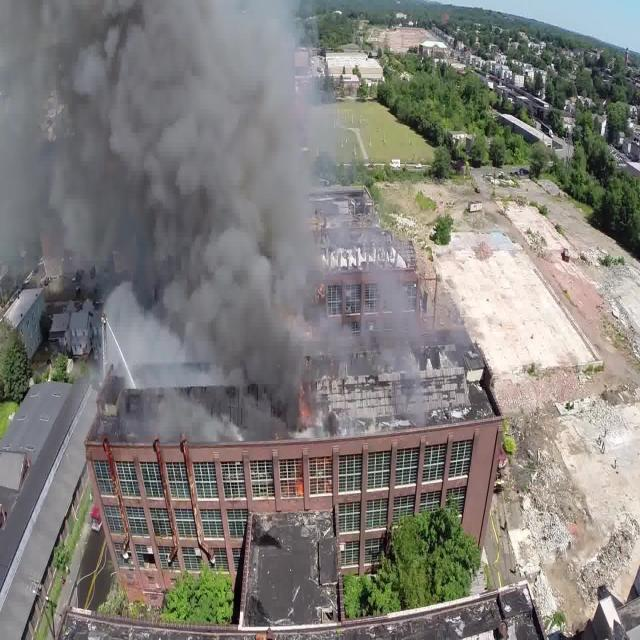Smoke: (0, 0, 315, 411)
